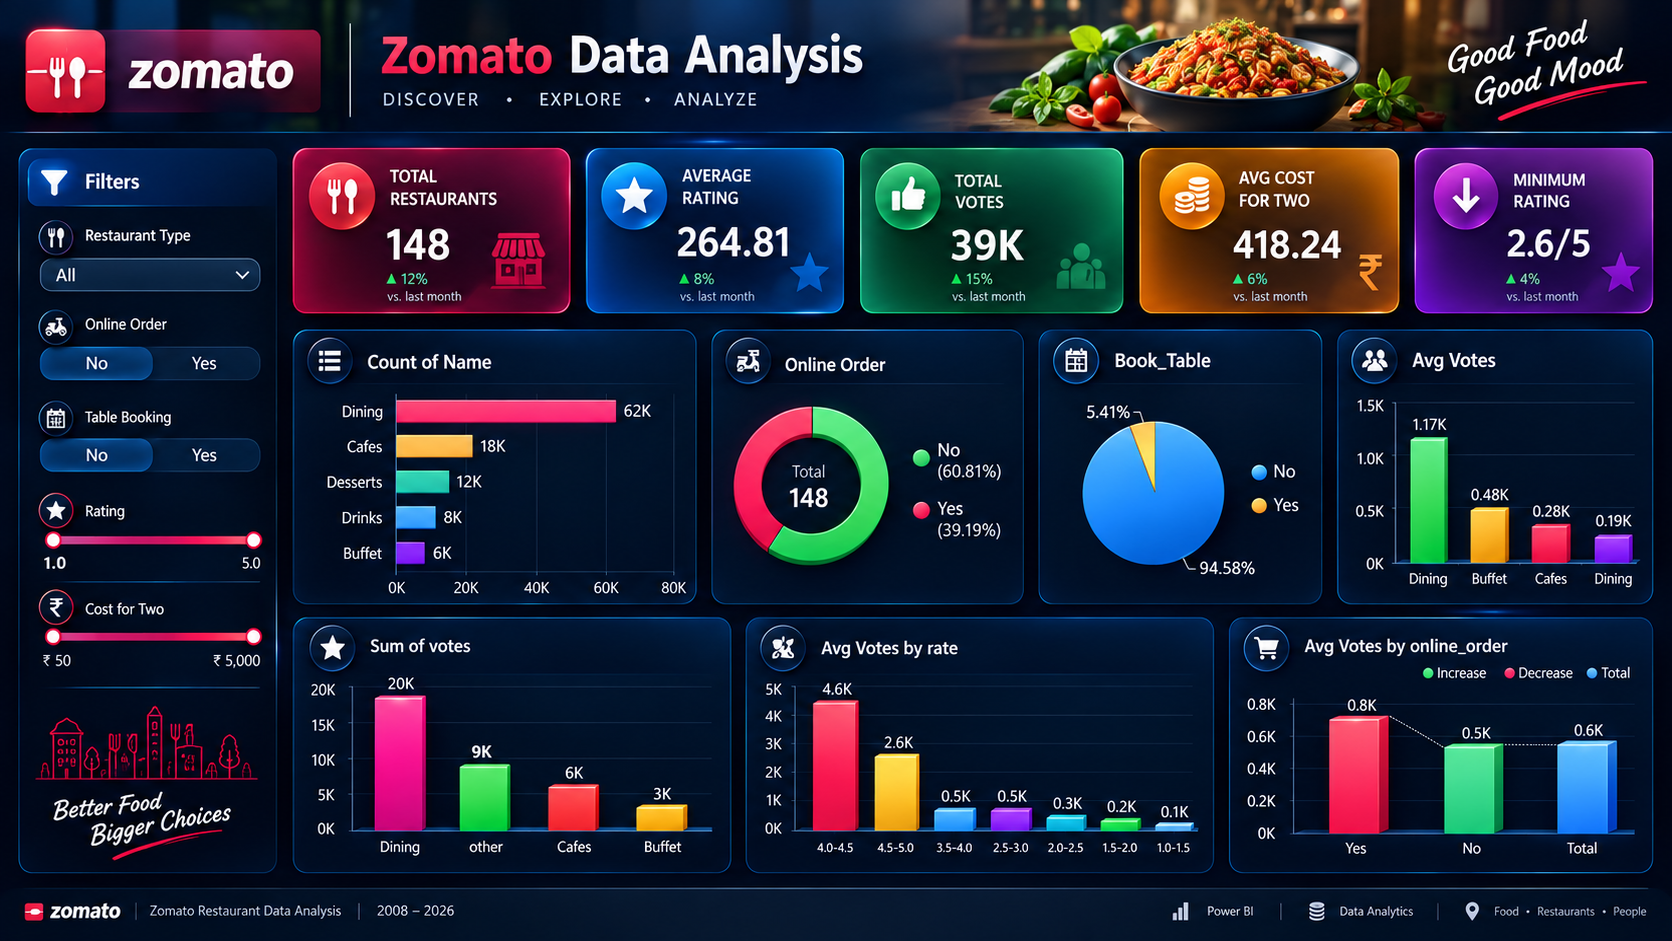

What the dashboard file says about the page in this screenshot:
{"tool":"powerbi","page":{"name":"Page 1","canvas":[1920,1080],"ordinal":0},"visuals":[{"type":"cardVisual","fields":{"Data":["_Measure.Total Restaurants"]},"box":[413.3,228.3,113.3,90],"z":0},{"type":"cardVisual","fields":{"Data":["_Measure.Avg Votes"]},"box":[715,241.7,200,63.3],"z":1000},{"type":"cardVisual","fields":{"Data":["_Measure.Total Votes"]},"box":[1050,246.7,133.3,55],"z":2000},{"type":"cardVisual","fields":{"Data":["_Measure.Avg Cost For Two"]},"box":[1360,251.7,165,55],"z":3000},{"type":"cardVisual","fields":{"Data":["_Measure.Min Rating"]},"box":[1681.7,248.3,165,56.7],"z":4000},{"type":"slicer","fields":{"Values":["Zomato.listed_in(type)"]},"box":[41.7,272.5,256.7,45],"z":5000},{"type":"clusteredBarChart","title":"Count Of Name","fields":{"Category":["Zomato.listed_in(type)"],"Y":["CountNonNull(Zomato.name)"]},"box":[348,334,418,284],"z":6000},{"type":"donutChart","title":"Online_Order","fields":{"Category":["Zomato.online_order"],"Y":["CountNonNull(Zomato.name)"]},"box":[766,334,346,284],"z":7000},{"type":"pieChart","title":"Book_Table","fields":{"Category":["Zomato.book_table"],"Y":["CountNonNull(Zomato.name)"]},"box":[1116,334,438,284],"z":8000},{"type":"clusteredColumnChart","title":"Avg Votes ","fields":{"Category":["Zomato.listed_in(type)"],"Y":["_Measure.Avg Votes"]},"box":[1558,332,356,286],"z":9000},{"type":"lineStackedColumnComboChart","title":"Sum of votes ","fields":{"Category":["Zomato.listed_in(type)"],"Y":["Sum(Zomato.votes)"]},"box":[334,618,532,436],"z":10000},{"type":"lineClusteredColumnComboChart","fields":{"Category":["Zomato.rate"],"Y":["_Measure.Avg Votes"]},"box":[866,620,486,440],"z":11000},{"type":"waterfallChart","fields":{"Category":["Zomato.online_order"],"Y":["_Measure.Avg Votes"]},"box":[1360,620,558,440],"z":12000},{"type":"advancedSlicerVisual","fields":{"Values":["Zomato.book_table"]},"box":[53.3,490,245,100],"z":15001},{"type":"advancedSlicerVisual","fields":{"Values":["Zomato.book_table"]},"box":[41.7,360,245,100],"z":15002}]}

Visuals, with their boxes in screenshot pixels (x1, y1, x2, y2), scaled from the page's 1920x1080 canvas onto the 1672x941 screenshot:
cardVisual - _Measure.Total Restaurants: {"left": 360, "top": 199, "right": 459, "bottom": 277}
cardVisual - _Measure.Avg Votes: {"left": 623, "top": 211, "right": 797, "bottom": 266}
cardVisual - _Measure.Total Votes: {"left": 914, "top": 215, "right": 1030, "bottom": 263}
cardVisual - _Measure.Avg Cost For Two: {"left": 1184, "top": 219, "right": 1328, "bottom": 267}
cardVisual - _Measure.Min Rating: {"left": 1464, "top": 216, "right": 1608, "bottom": 266}
slicer - Zomato.listed_in(type): {"left": 36, "top": 237, "right": 260, "bottom": 277}
"Count Of Name" clusteredBarChart: {"left": 303, "top": 291, "right": 667, "bottom": 538}
"Online_Order" donutChart: {"left": 667, "top": 291, "right": 968, "bottom": 538}
"Book_Table" pieChart: {"left": 972, "top": 291, "right": 1353, "bottom": 538}
"Avg Votes " clusteredColumnChart: {"left": 1357, "top": 289, "right": 1667, "bottom": 538}
"Sum of votes " lineStackedColumnComboChart: {"left": 291, "top": 538, "right": 754, "bottom": 918}
lineClusteredColumnComboChart - Zomato.rate x _Measure.Avg Votes: {"left": 754, "top": 540, "right": 1177, "bottom": 924}
waterfallChart - Zomato.online_order x _Measure.Avg Votes: {"left": 1184, "top": 540, "right": 1670, "bottom": 924}
advancedSlicerVisual - Zomato.book_table: {"left": 46, "top": 427, "right": 260, "bottom": 514}
advancedSlicerVisual - Zomato.book_table: {"left": 36, "top": 314, "right": 250, "bottom": 401}
